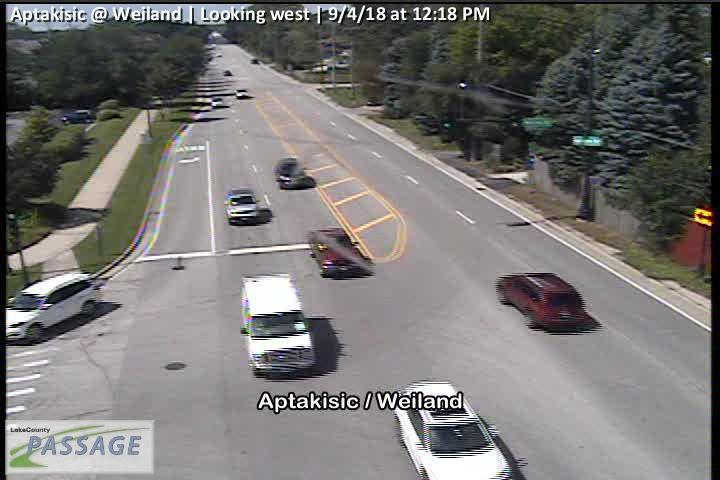SUV: (395, 382, 512, 480), (241, 275, 316, 374), (5, 274, 103, 343), (495, 271, 588, 330)
Sedan: (305, 229, 370, 278), (222, 190, 257, 224), (273, 159, 305, 187), (60, 109, 93, 123), (233, 88, 249, 97), (212, 97, 223, 108), (224, 69, 231, 76), (251, 58, 258, 63), (216, 52, 222, 56)
